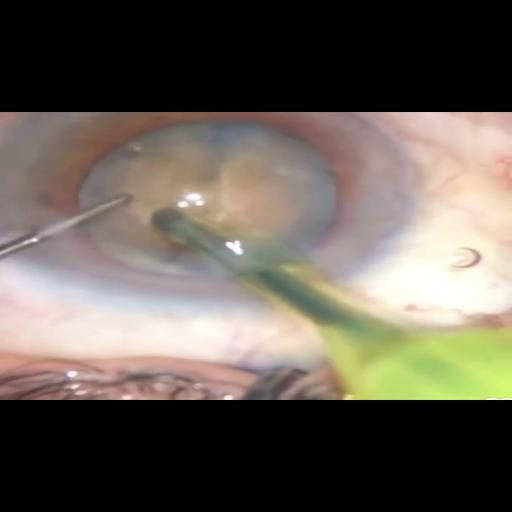catarata: (78, 121, 323, 272)
cornea: (49, 97, 414, 302)
pupil: (46, 111, 367, 278)
